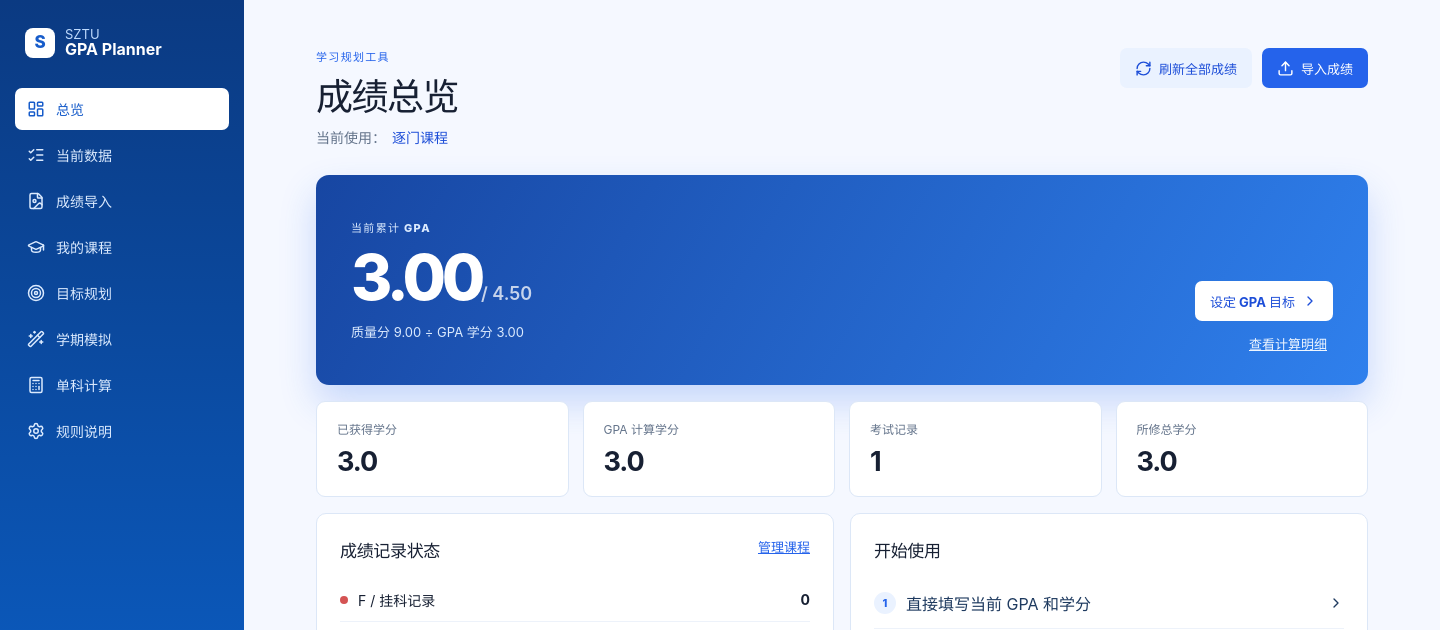
Test: grade screenshot import flow › refreshes the entire grade archive only after the new screenshot is approved
The width and height of the screenshot is (1440, 630).
Later steps or results of the test are not shown.
expect the text "3.00" is shown: met, box [351,239,481,315]
Click the button "刷新全部成绩": (1186, 68) [1120,48,1252,88]
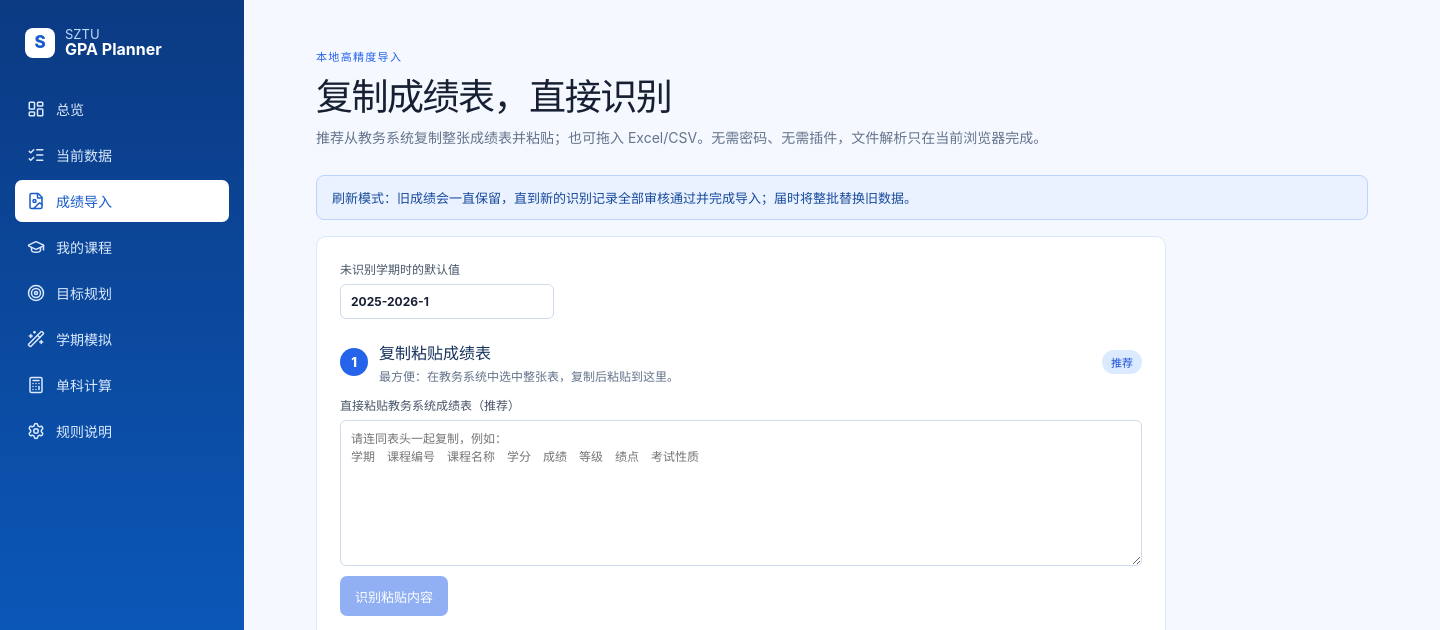
expect the text "刷新模式：" is shown: met, box [332,190,397,206]
Click the button "成绩导入": (122, 201) [15,180,229,222]
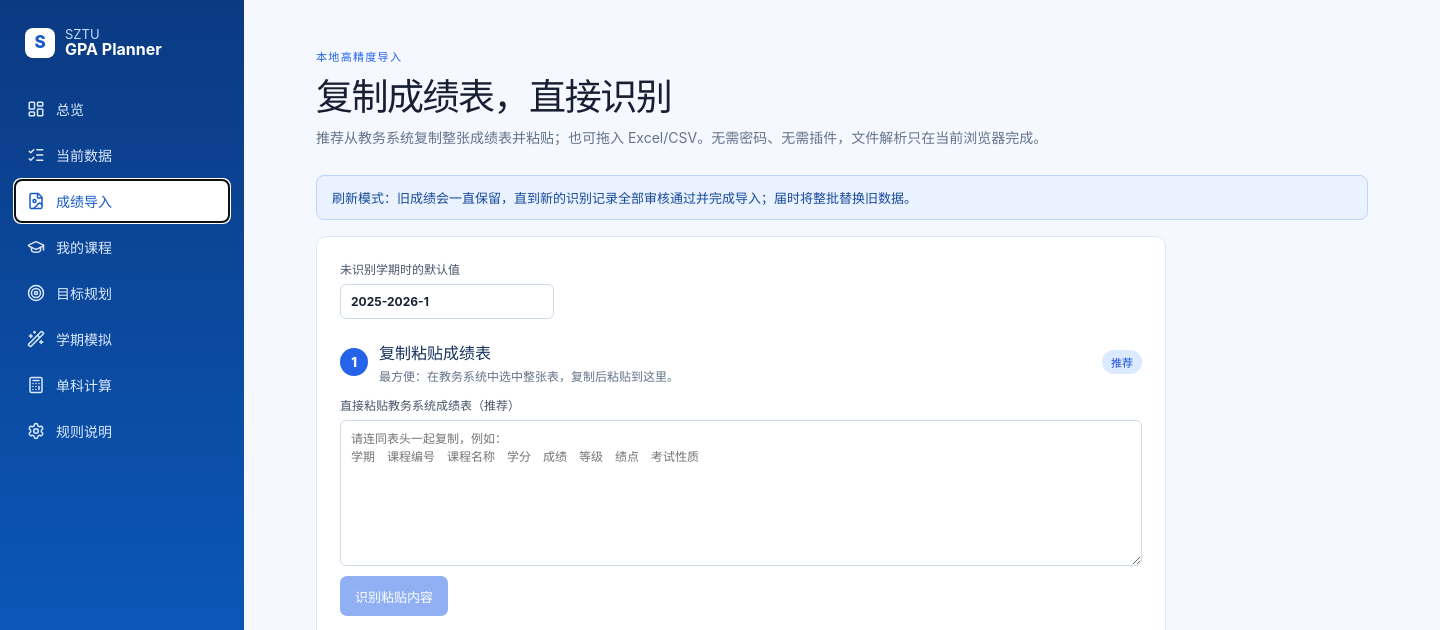
expect the text "刷新模式：" is shown: met, box [332,190,397,206]
